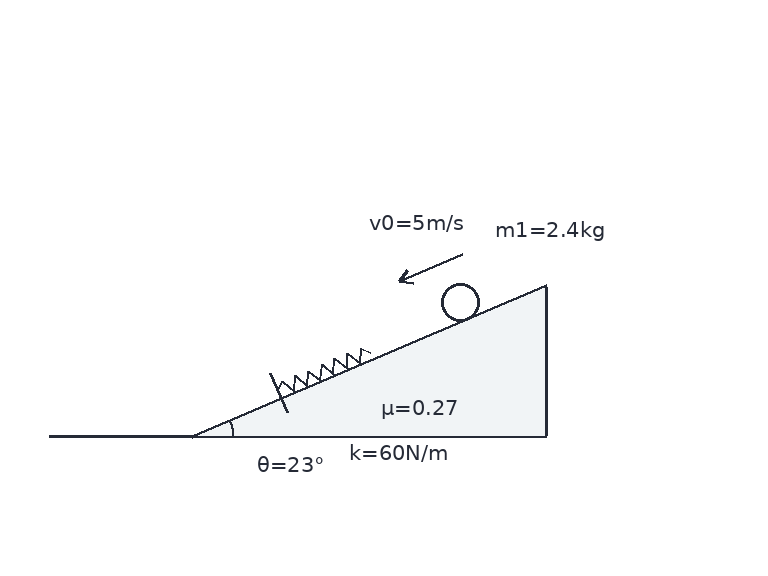ball: (439, 281, 481, 323)
ramp: (191, 284, 548, 438)
spring: (276, 346, 372, 393)
